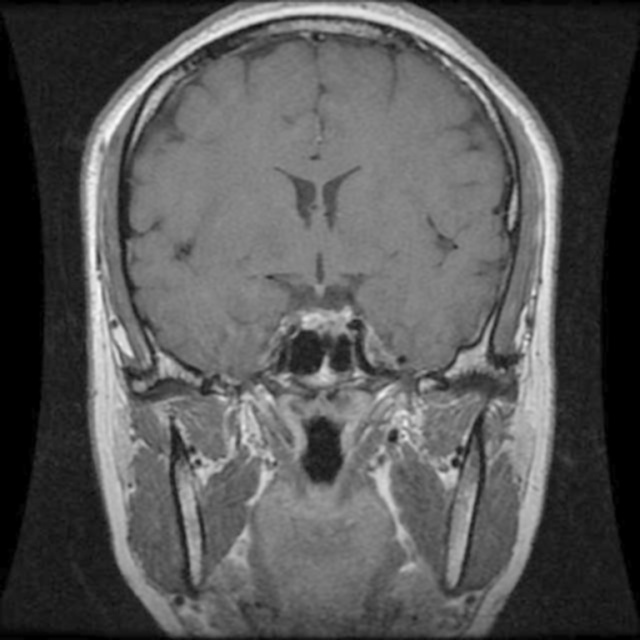no tumor: (290, 304, 361, 344)
